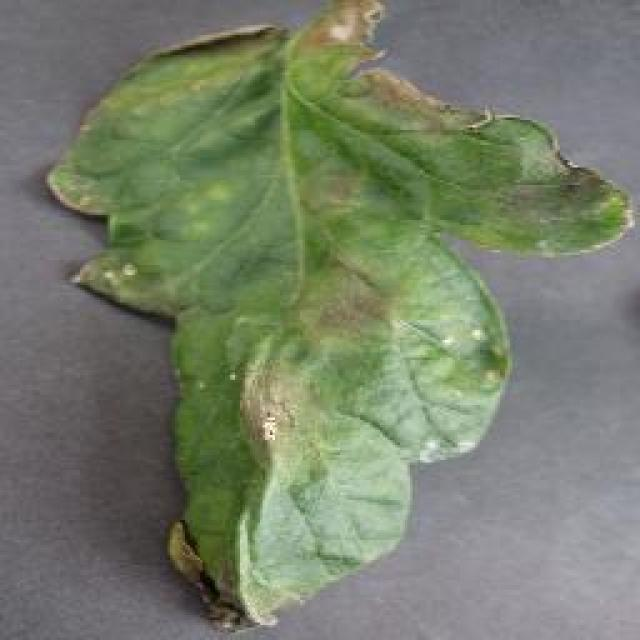Tomato Late Blight: (155, 15, 473, 573)
